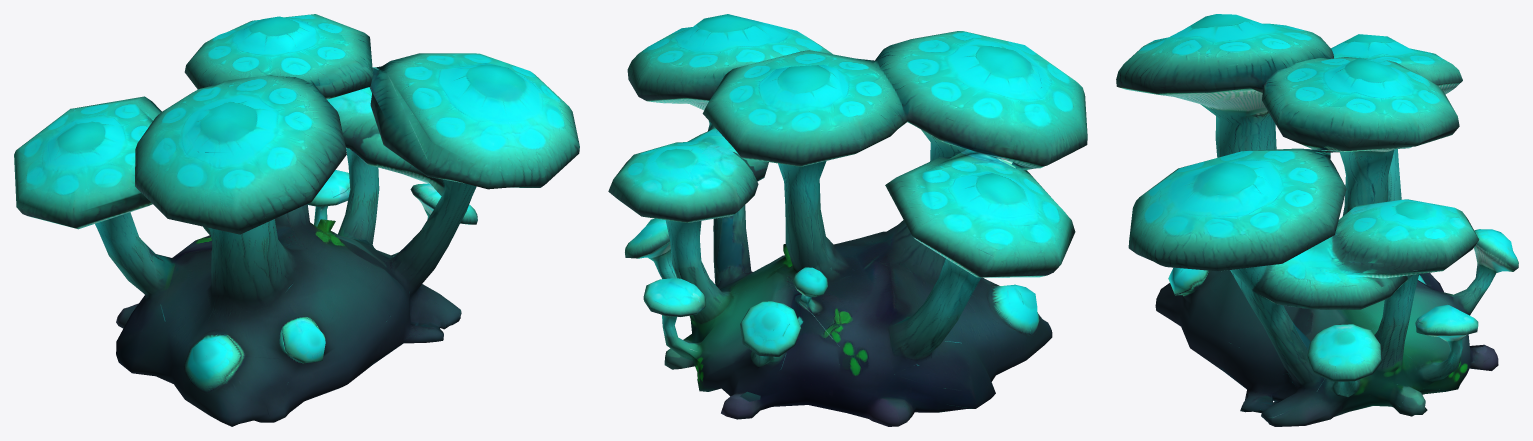
The model's file is z3_mushroom.glb.
The picture shows the model from 3 angles, left to right: view 1: azimuth 30°, elevation 25°; view 2: azimuth 150°, elevation 25°; view 3: azimuth 270°, elevation 25°; orthographic projection. The views are drawn at different scales.
Size of the model in its own units: 1.89 by 1.13 by 1.39.
1 material, 1 textured.
